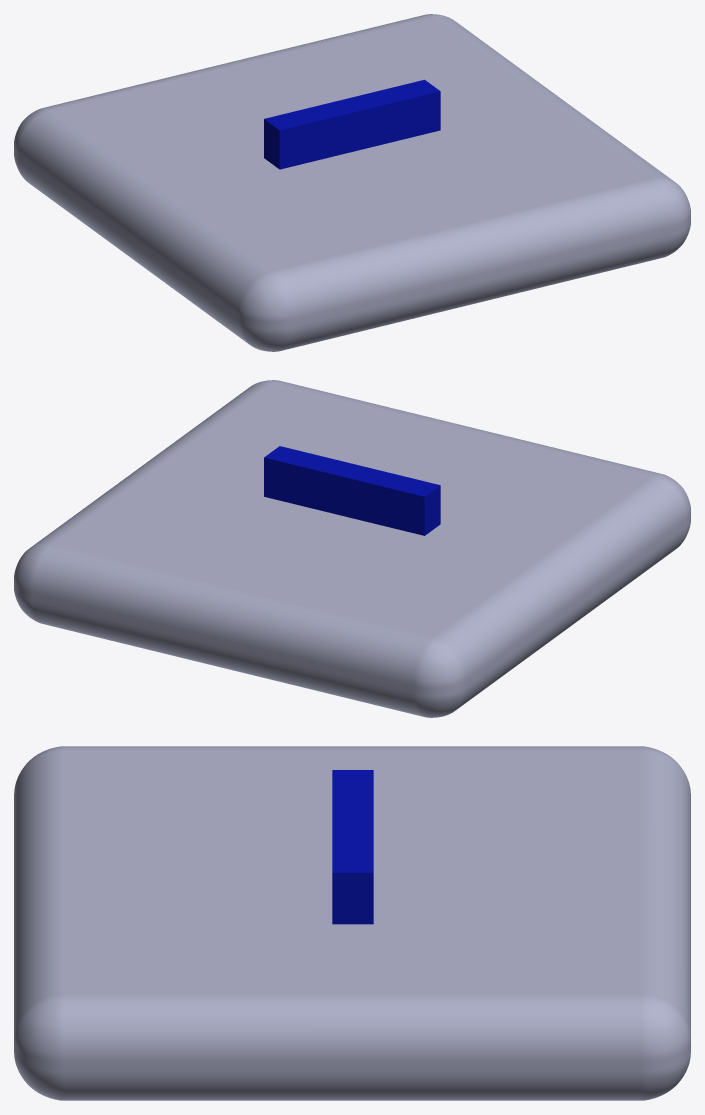
The model's file is buttonMinus.glb.
3 views of the same model, one above another, from view 1: azimuth 30°, elevation 25°; view 2: azimuth 150°, elevation 25°; view 3: azimuth 270°, elevation 25° (orthographic). The views are drawn at different scales.
Parts seen in each view (by area): view 1: Box, 3D Text - -; view 2: Box, 3D Text - -; view 3: Box, 3D Text - -.
Part boxes in pixels (x1=…): Box: x1=14, y1=14, x2=690, y2=351; 3D Text - -: x1=264, y1=79, x2=440, y2=169; Box: x1=14, y1=380, x2=690, y2=717; 3D Text - -: x1=264, y1=446, x2=440, y2=535; Box: x1=14, y1=746, x2=690, y2=1100; 3D Text - -: x1=332, y1=770, x2=373, y2=924.
Bounding box in the file's own units: 0.1 × 0.0249 × 0.1.
